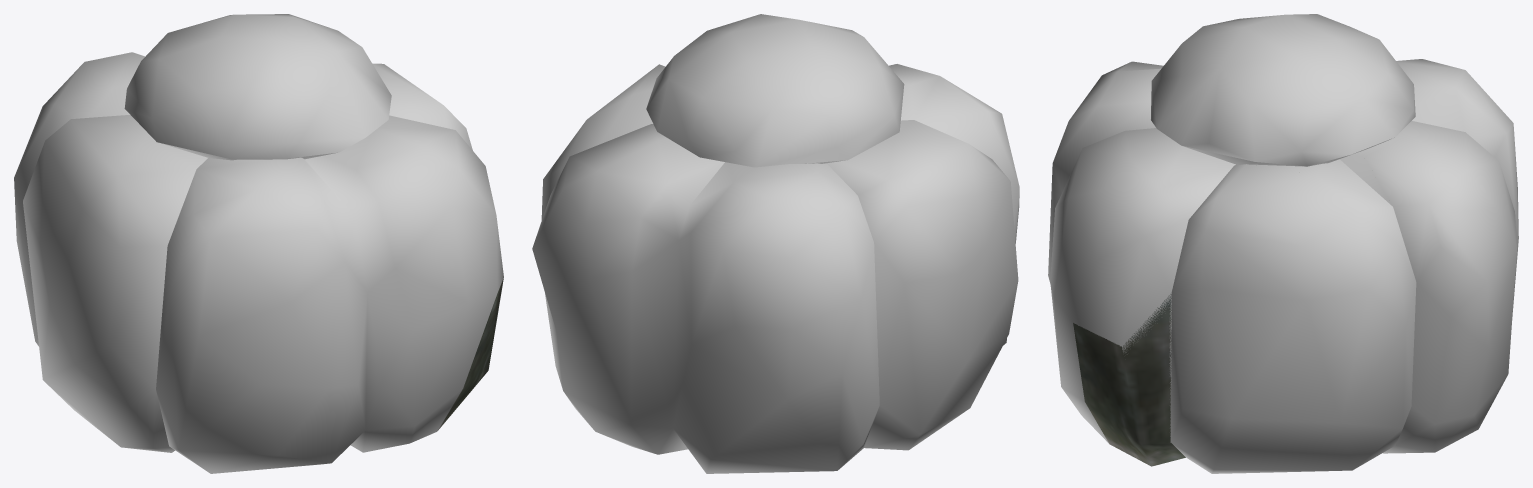
File: rock2.obj
The picture shows the model from 3 angles, left to right: view 1: azimuth 30°, elevation 25°; view 2: azimuth 150°, elevation 25°; view 3: azimuth 270°, elevation 25°; orthographic projection. The views are drawn at different scales.
Visible parts, largest first — view 1: CaveRock__MI_CaveRock_01, CaveRock__MI_CaveRock_01.001_Mesh.002; view 2: CaveRock__MI_CaveRock_01; view 3: CaveRock__MI_CaveRock_01, CaveRock__MI_CaveRock_01.001_Mesh.002.
Part boxes in pixels (<box>): CaveRock__MI_CaveRock_01: <box>14,14,503,473</box>; CaveRock__MI_CaveRock_01.001_Mesh.002: <box>438,278,503,430</box>; CaveRock__MI_CaveRock_01: <box>532,14,1019,473</box>; CaveRock__MI_CaveRock_01: <box>1048,14,1518,473</box>; CaveRock__MI_CaveRock_01.001_Mesh.002: <box>1073,294,1185,466</box>.
Bounding box in the file's own units: 0.0369 × 0.033 × 0.0371.
